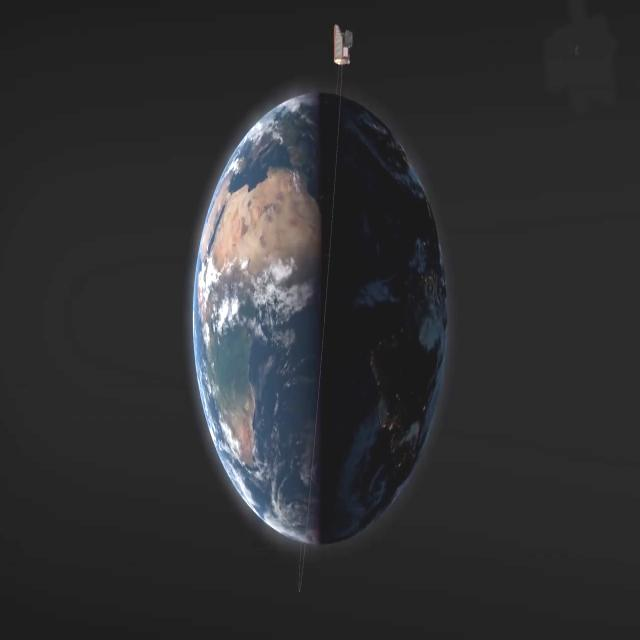medium_debris: (320, 1, 367, 84)
